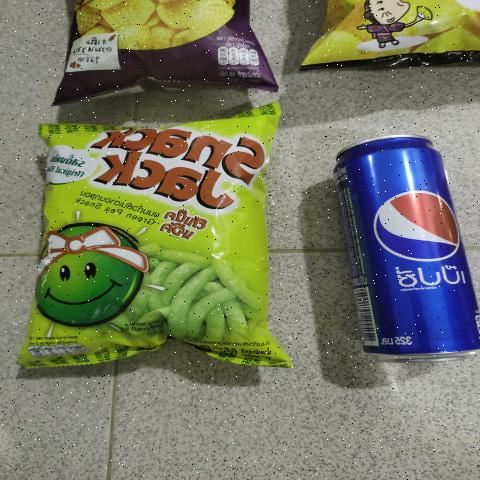pepsi_blue: (317, 125, 480, 364)
snack_jack: (42, 123, 256, 354)
